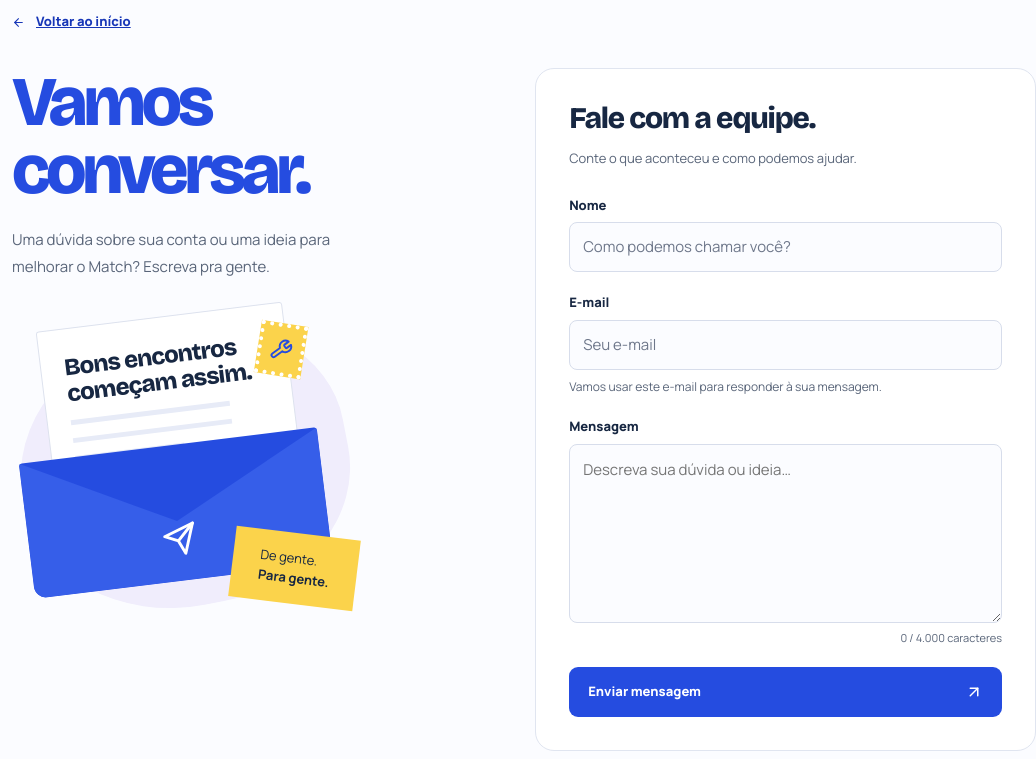
Scenario: erro JSON com HTTP 200 mantém o formulário e não anuncia sucesso
In the field labelled "Nome": (786, 248) [569, 222, 1002, 272], type "Pessoa de teste"
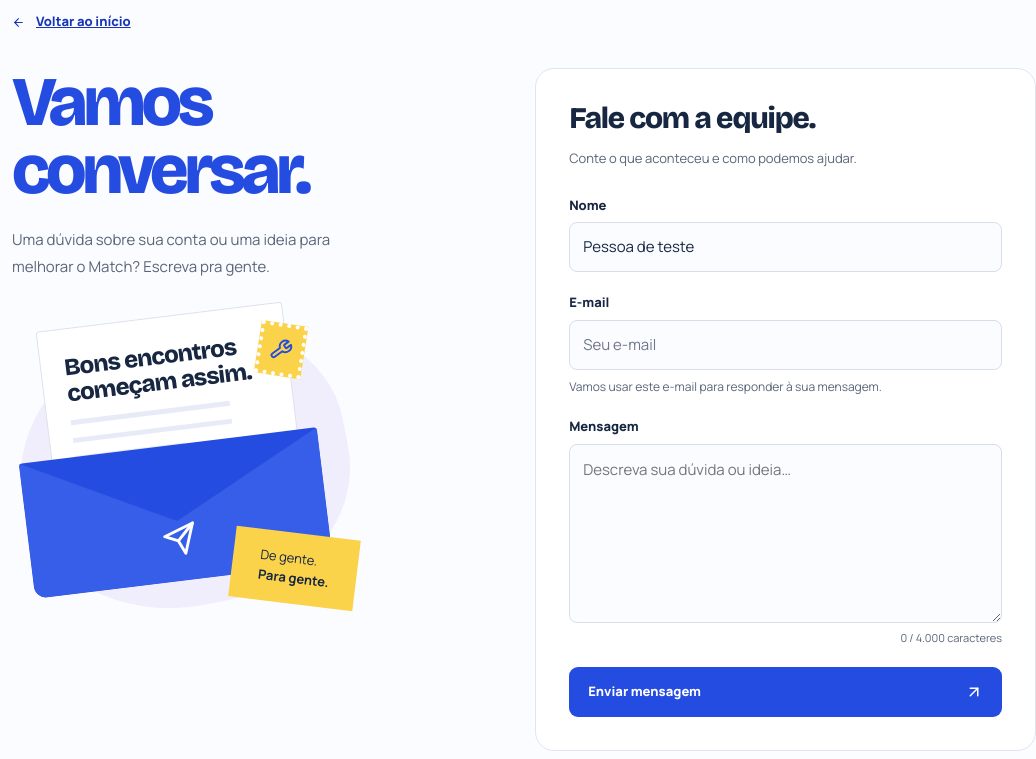
In the field labelled "E-mail": (786, 345) [569, 320, 1002, 370], type "teste@example.test"
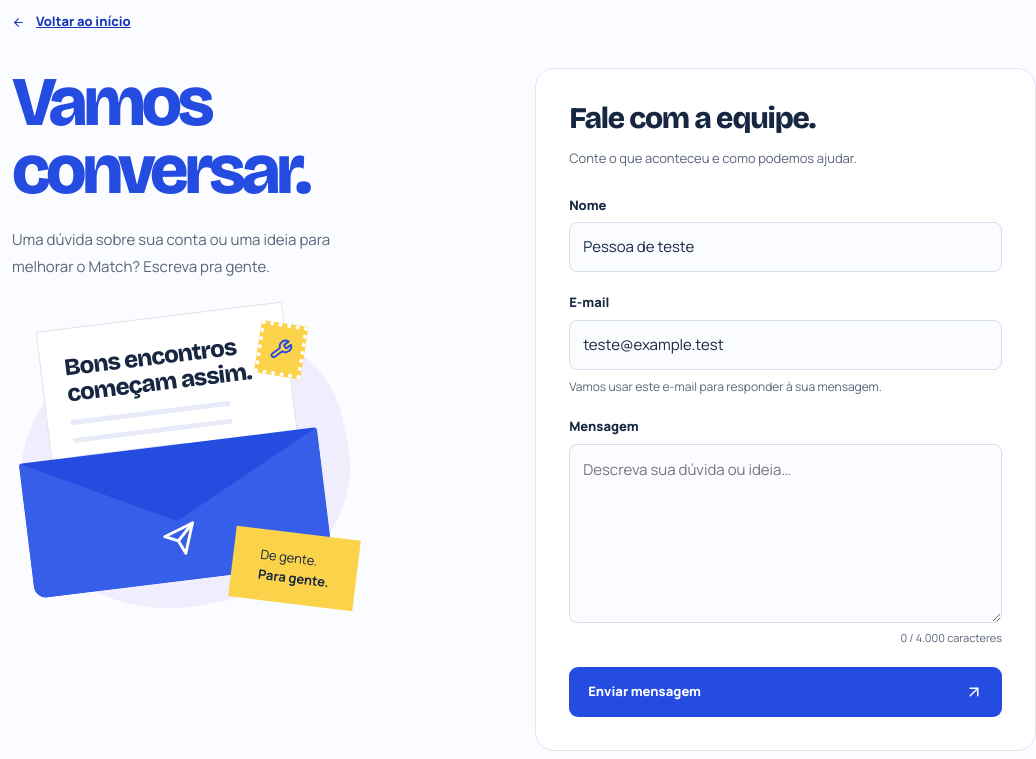
In the text box labelled "Mensagem": (786, 533) [569, 444, 1002, 623], type "Gostaria de ajuda para usar minha conta."
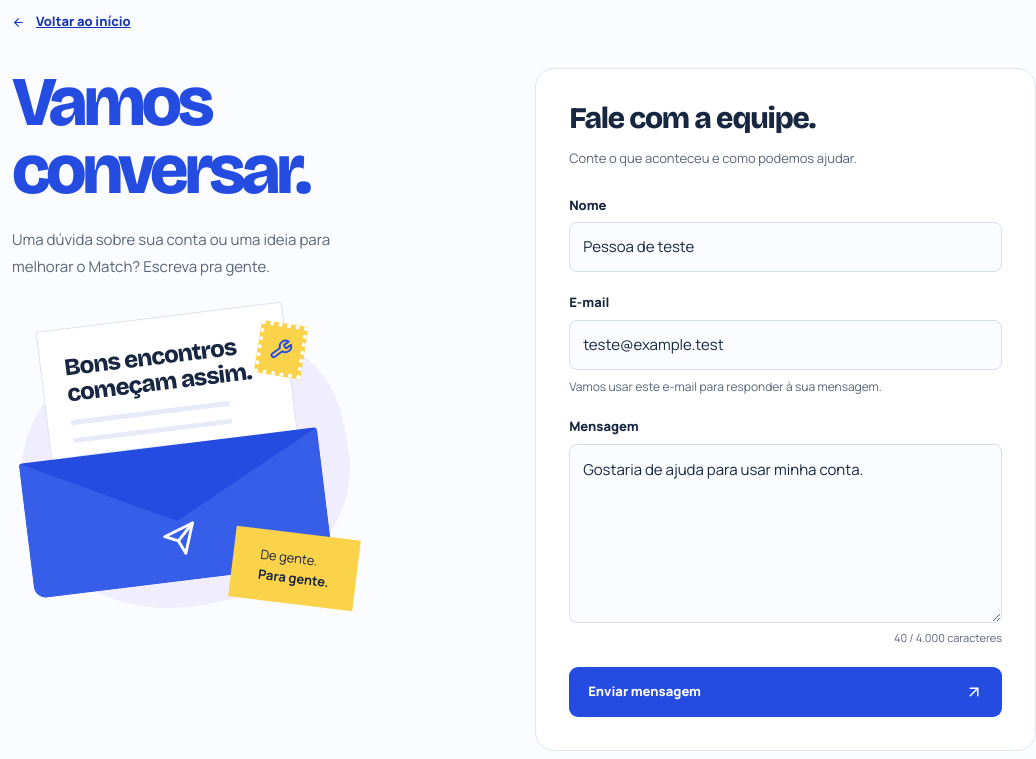
Submit the form named "Enviar", box [569, 196, 1002, 717]
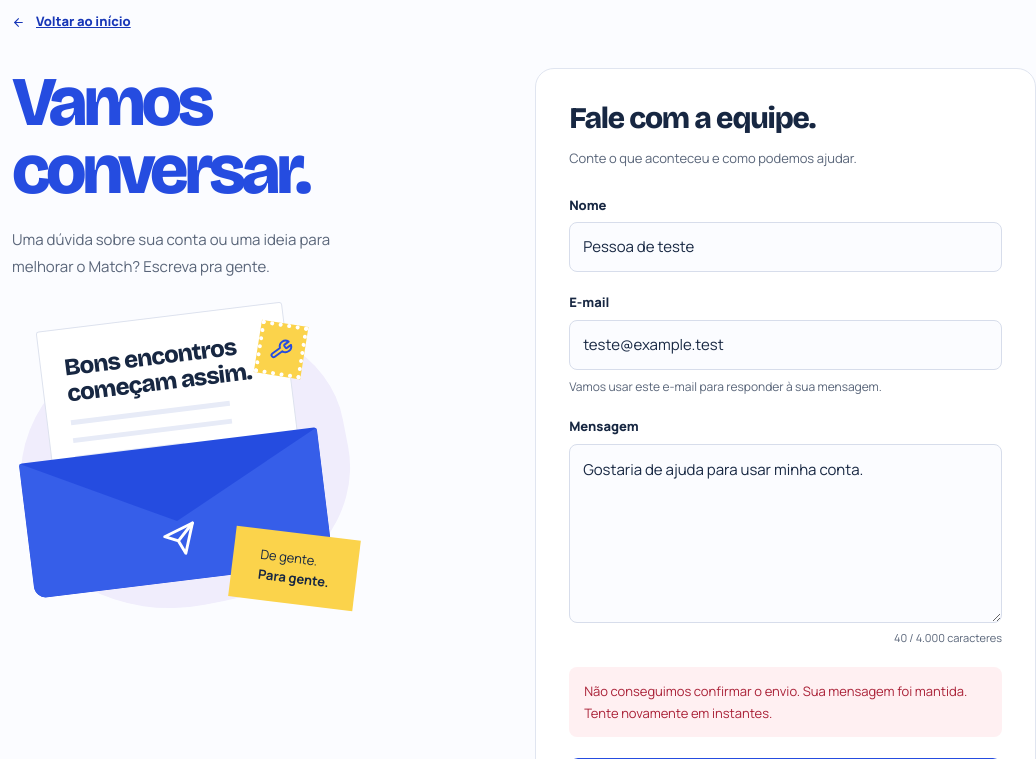
Expected: the message is shown, [569, 667, 1002, 737]
